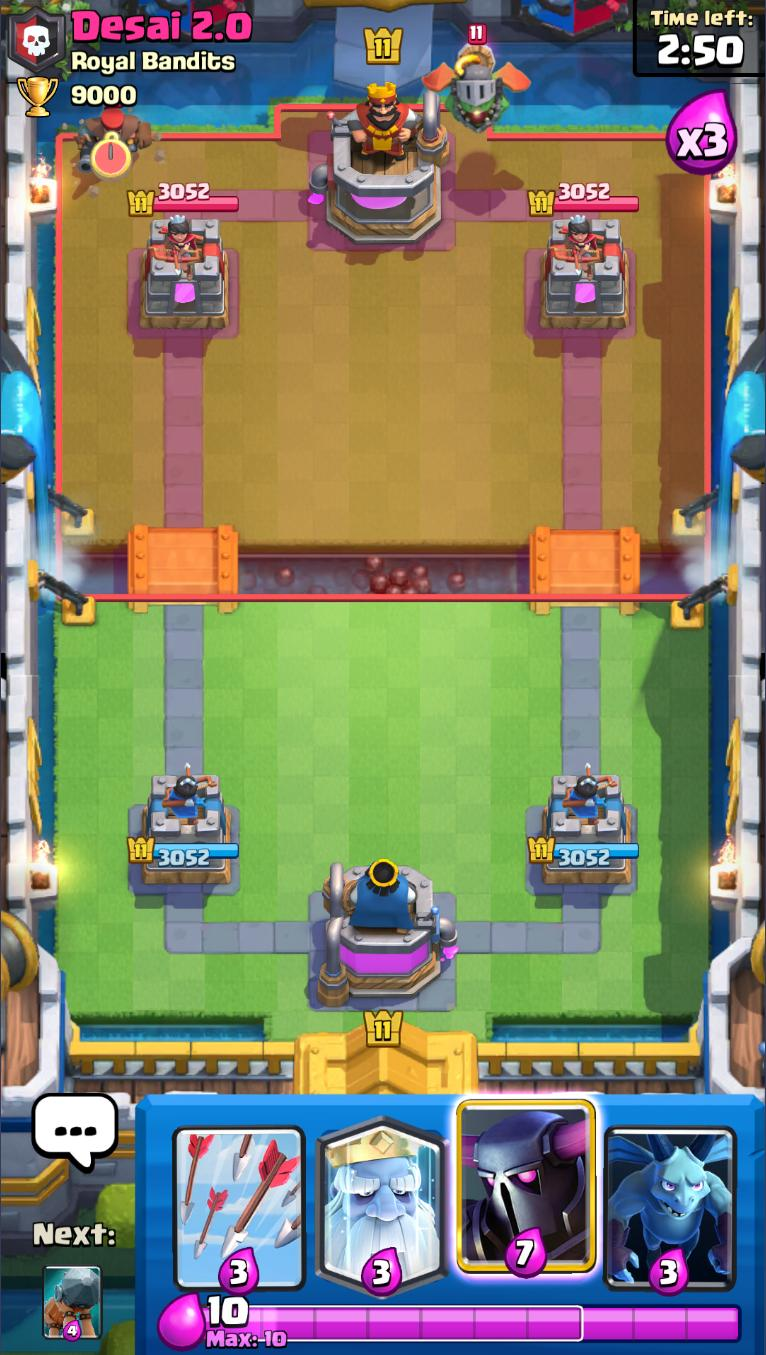ArrowDeck: (166, 1096, 312, 1294)
BattleRamDeck: (41, 1264, 104, 1342)
Elixir: (202, 1294, 743, 1351)
EnemyTower: (138, 215, 232, 331), (539, 215, 632, 331)
Hunter: (77, 102, 151, 173)
InfernoDragon: (423, 45, 531, 134)
KingTower: (310, 79, 451, 248)
MinionsDeck: (598, 1095, 743, 1296)
MyKingTower: (316, 856, 459, 1009)
MyPrincessTower: (125, 771, 242, 889), (528, 770, 641, 889)
MyPrincessTowerHP: (125, 835, 241, 868), (527, 835, 641, 868)
PekkaDeck: (454, 1097, 598, 1296)
PrincessTower: (149, 215, 203, 277), (550, 216, 603, 274)
RoyaleGhost: (312, 1096, 453, 1298)
TowerPrincessHP: (127, 182, 240, 217), (528, 182, 641, 216)
